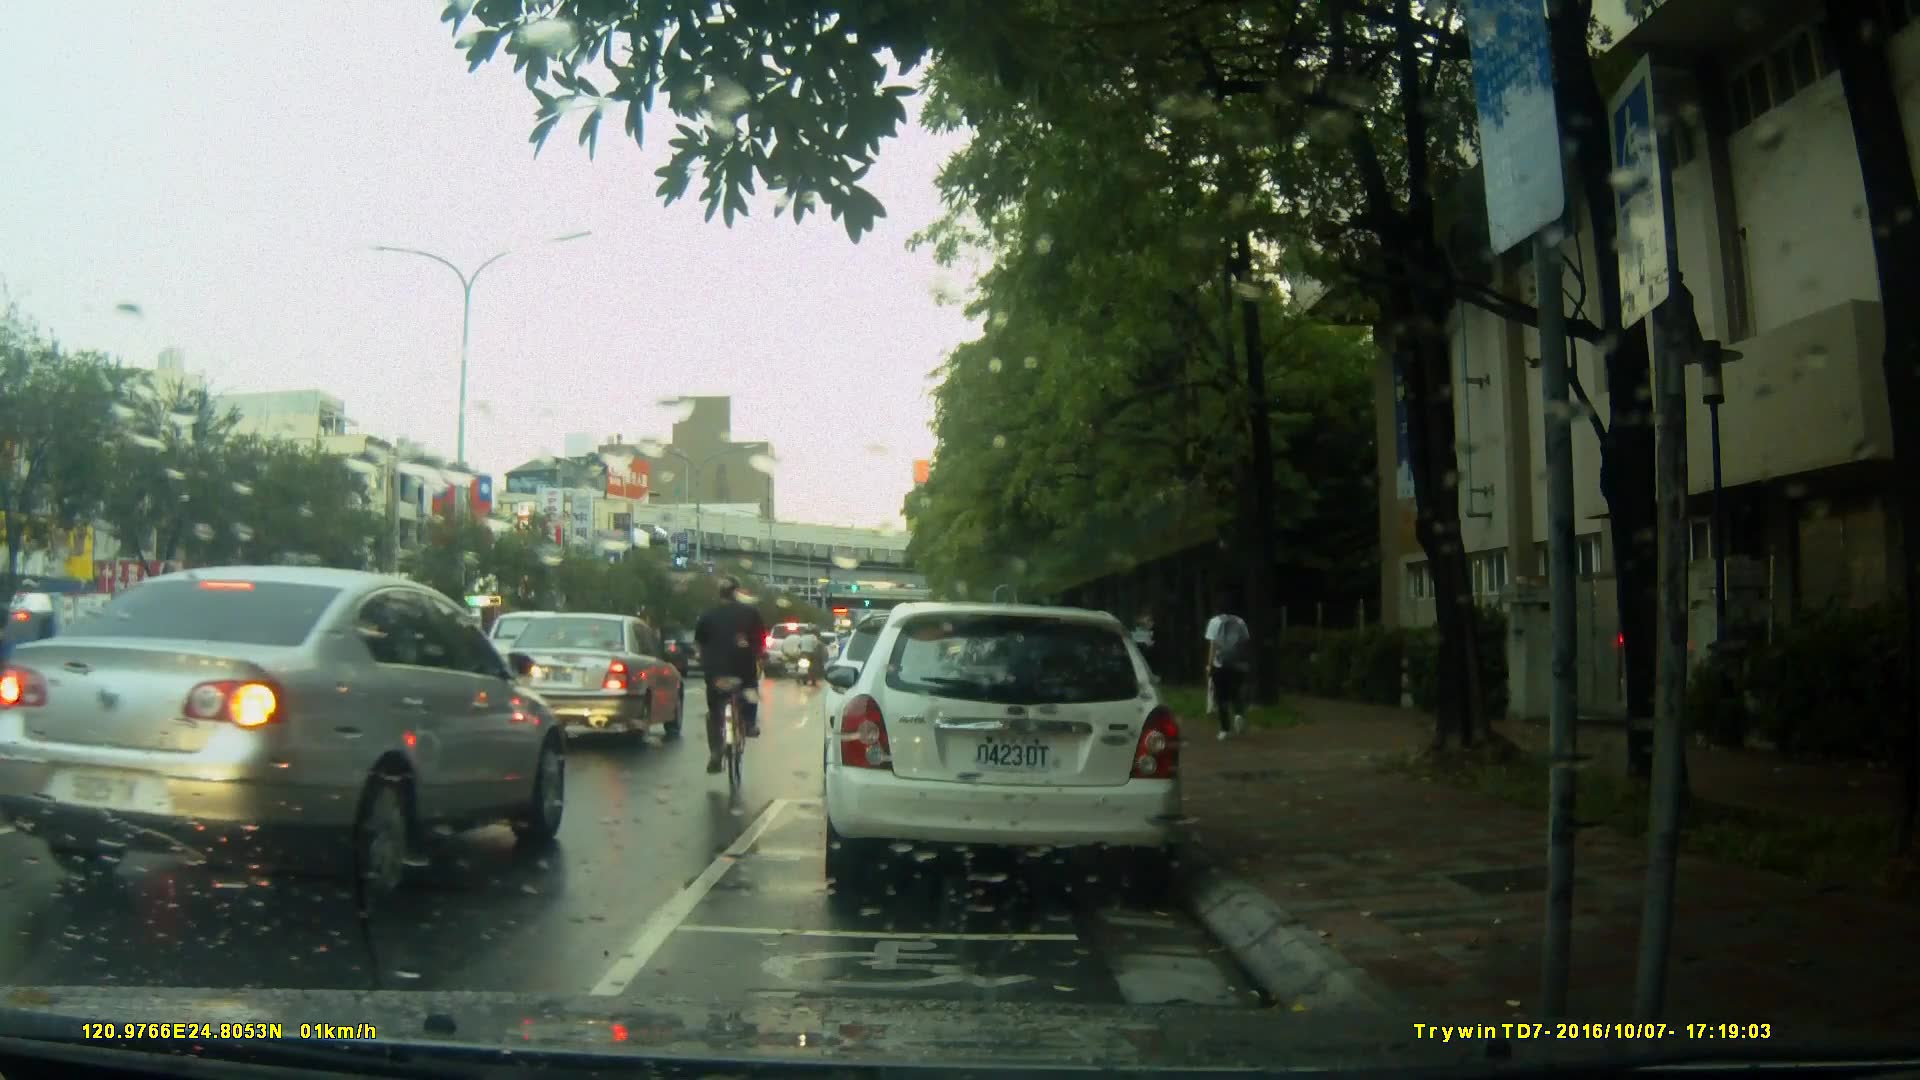pedestrian: (1197, 588, 1254, 745)
rider: (697, 573, 771, 798), (719, 607, 770, 725), (798, 623, 821, 688)
vehicle: (2, 564, 567, 930), (820, 602, 1188, 898), (481, 611, 690, 753)
